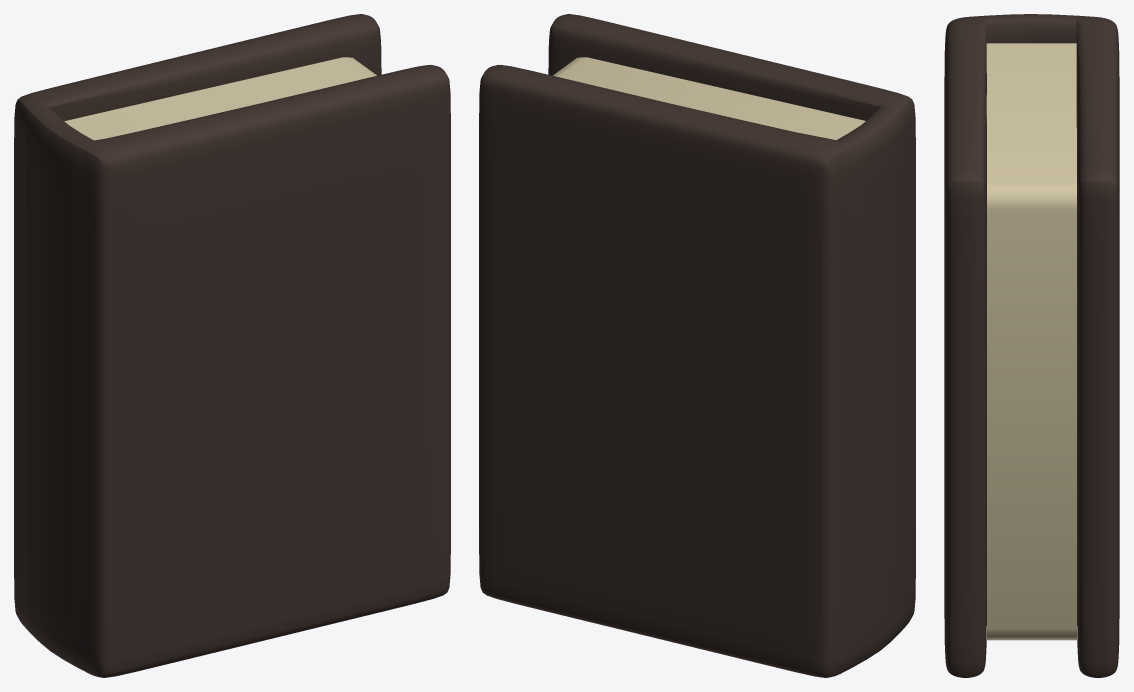
Rendered from Buch.fbx.
3 views of the same model, side by side, from view 1: azimuth 30°, elevation 25°; view 2: azimuth 150°, elevation 25°; view 3: azimuth 270°, elevation 25° (orthographic). The views are drawn at different scales.
Parts seen in each view (by area): view 1: Buch; view 2: Buch; view 3: Buch.
Boxes of the visible parts, <box> form: Buch: <box>14,14,450,677</box>; Buch: <box>479,14,915,677</box>; Buch: <box>944,14,1119,677</box>.
Size of the model in its own units: 147 by 204 by 64.1.
